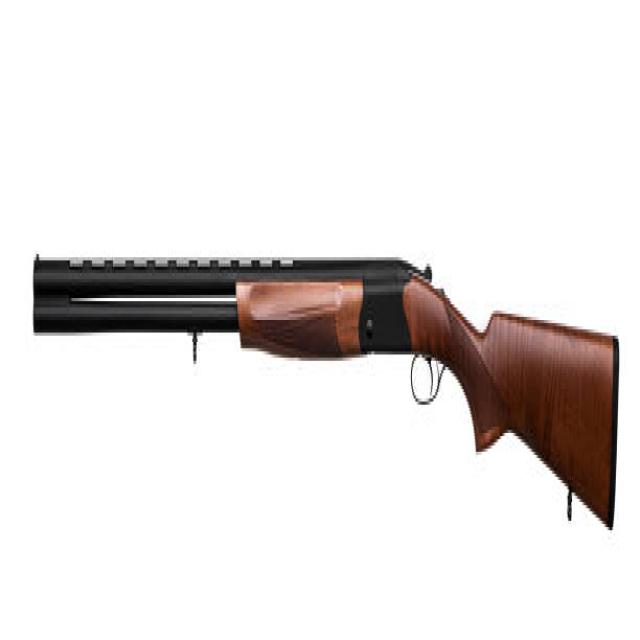rifle: (28, 244, 624, 552)
